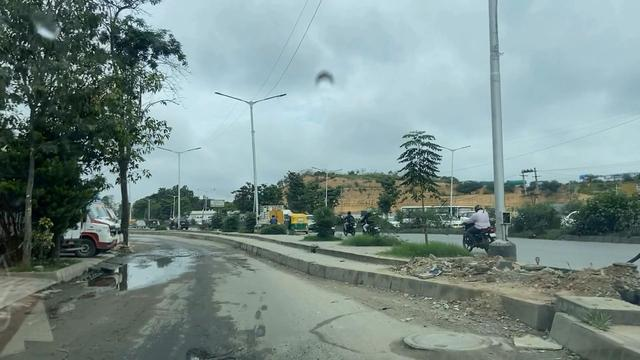RoadDamages: (394, 327, 510, 358), (178, 337, 266, 360)
